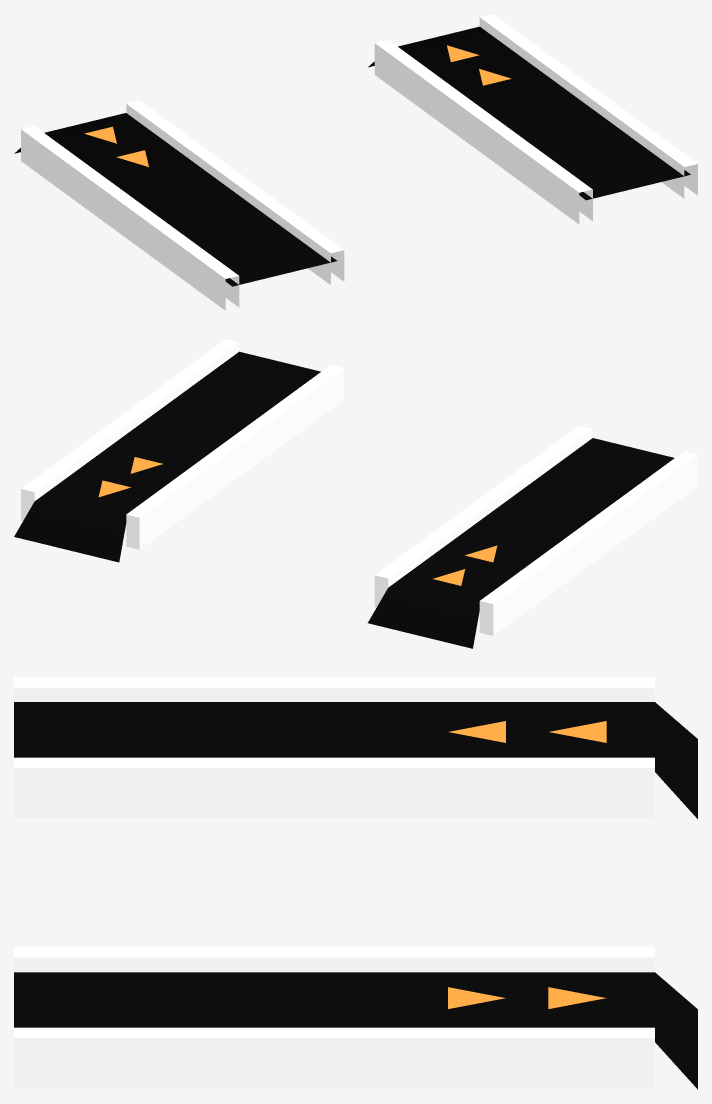
File: Stage3-Road.fbx
3 renders of one model, top to bottom at view 1: azimuth 30°, elevation 25°; view 2: azimuth 150°, elevation 25°; view 3: azimuth 270°, elevation 25°, orthographic. The views are drawn at different scales.
Parts seen in each view (by area): view 1: Stage3-Road; view 2: Stage3-Road; view 3: Stage3-Road.
Part boxes in pixels (x1,y1,x2,y2): Stage3-Road: (14,14,697,310); Stage3-Road: (14,339,697,648); Stage3-Road: (14,677,697,1089).
Bounding box in the file's own units: 6.51 × 0.4776 × 5.21.
